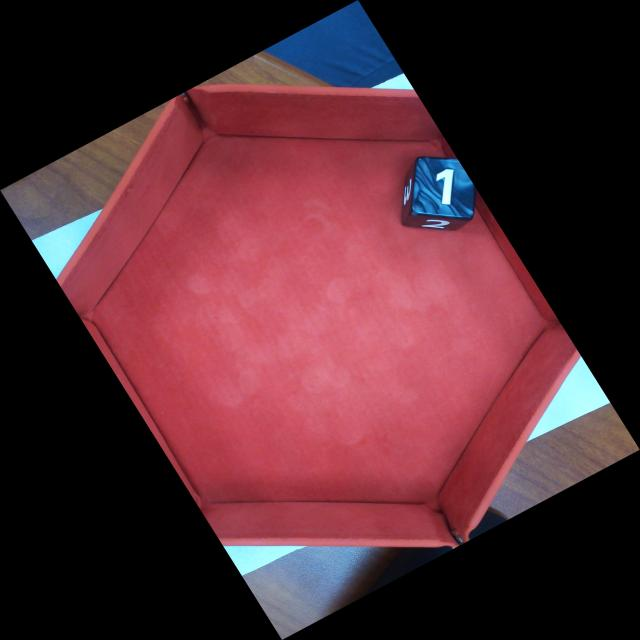dice: (415, 158, 474, 217)
